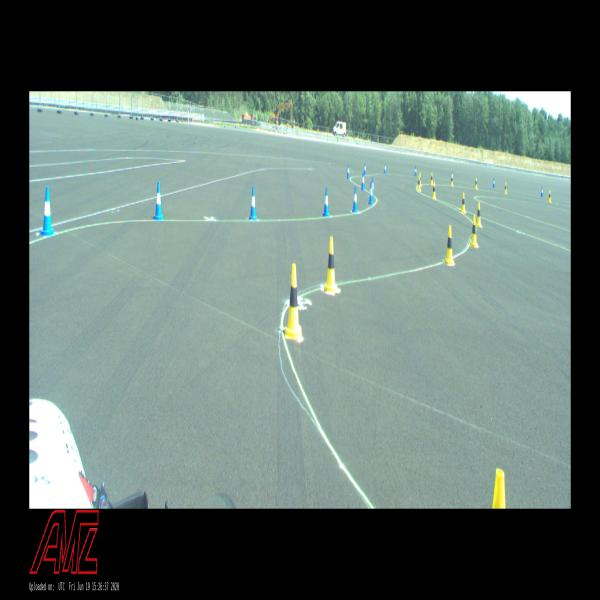blue_cone: (39, 187, 55, 236), (154, 182, 164, 220), (249, 186, 257, 220), (323, 187, 329, 217), (352, 186, 358, 212), (368, 182, 373, 205), (361, 172, 365, 190), (347, 163, 350, 178), (372, 177, 374, 197), (414, 166, 417, 177), (364, 162, 366, 175), (384, 163, 386, 175), (541, 186, 543, 197), (493, 178, 495, 188), (452, 171, 453, 181)
yellow_cone: (284, 264, 302, 339), (324, 237, 338, 293), (492, 469, 506, 509), (444, 226, 455, 266), (470, 215, 478, 247), (476, 202, 482, 228), (461, 192, 466, 214), (432, 181, 436, 199), (417, 175, 421, 191), (548, 190, 552, 203), (419, 172, 422, 187), (430, 172, 433, 185), (505, 183, 508, 194), (475, 177, 477, 190), (451, 174, 453, 186)
